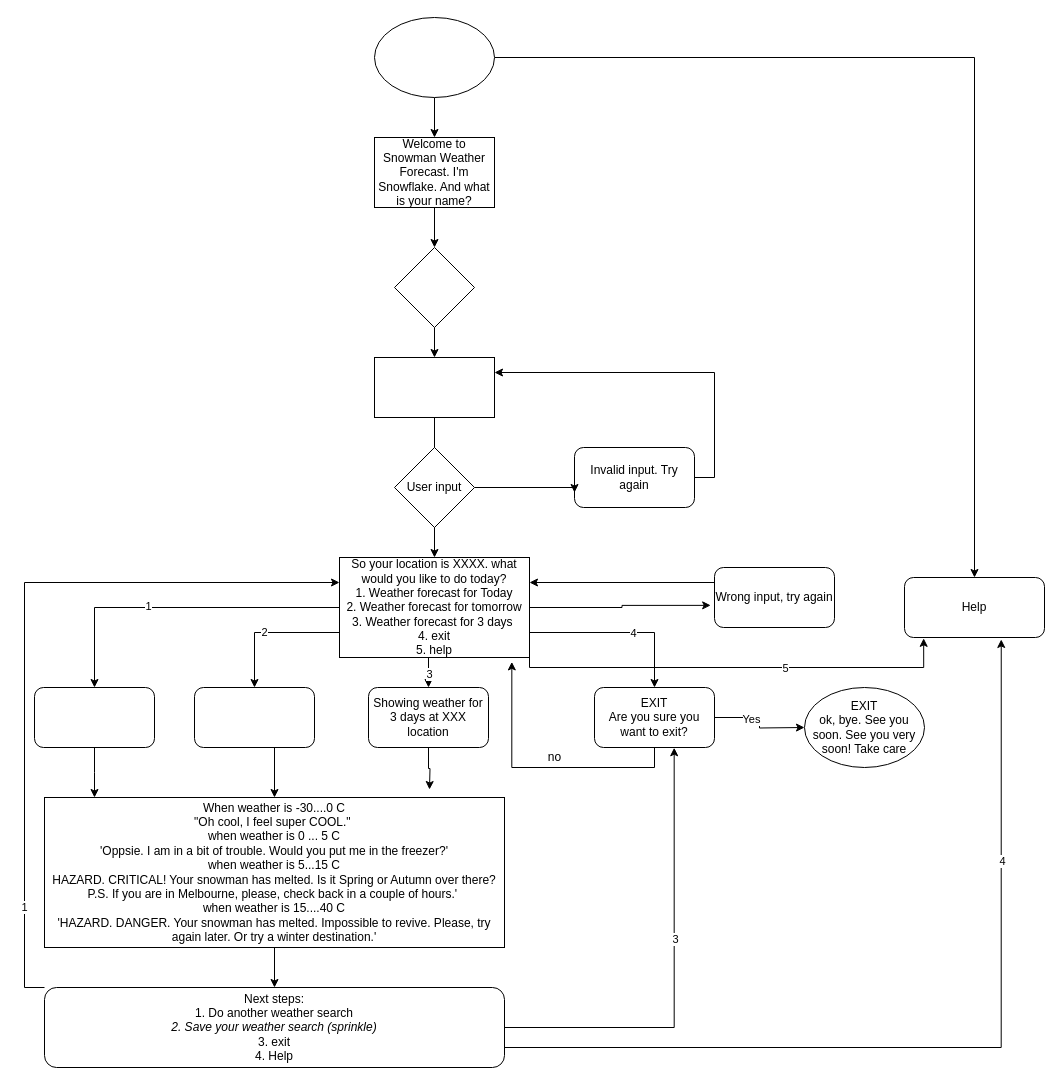
The diagram is 1062 pixels wide and 1085 high, and some of its shapes have lost their labels. The centre of each missing label's shape, as x and y in pixels:
"Nice to meet you xxxx. What's your location?" goes at point (434, 387).
"Showing weather for today at XXX location" goes at point (94, 717).
"Showing weather for tomorrow for XXX location" goes at point (254, 717).
"start Snowman Weather Forecast -- press any key to continue" goes at point (434, 57).
"User inputs name" goes at point (434, 287).
